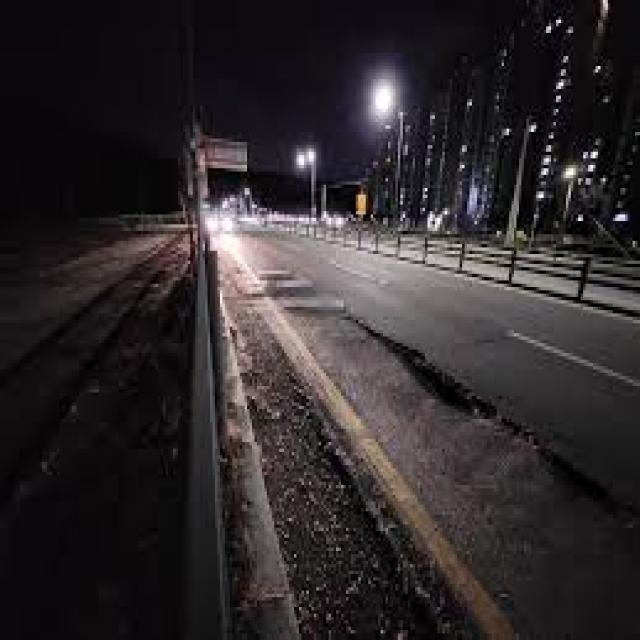pothole: (351, 296, 471, 414), (452, 414, 549, 535)
